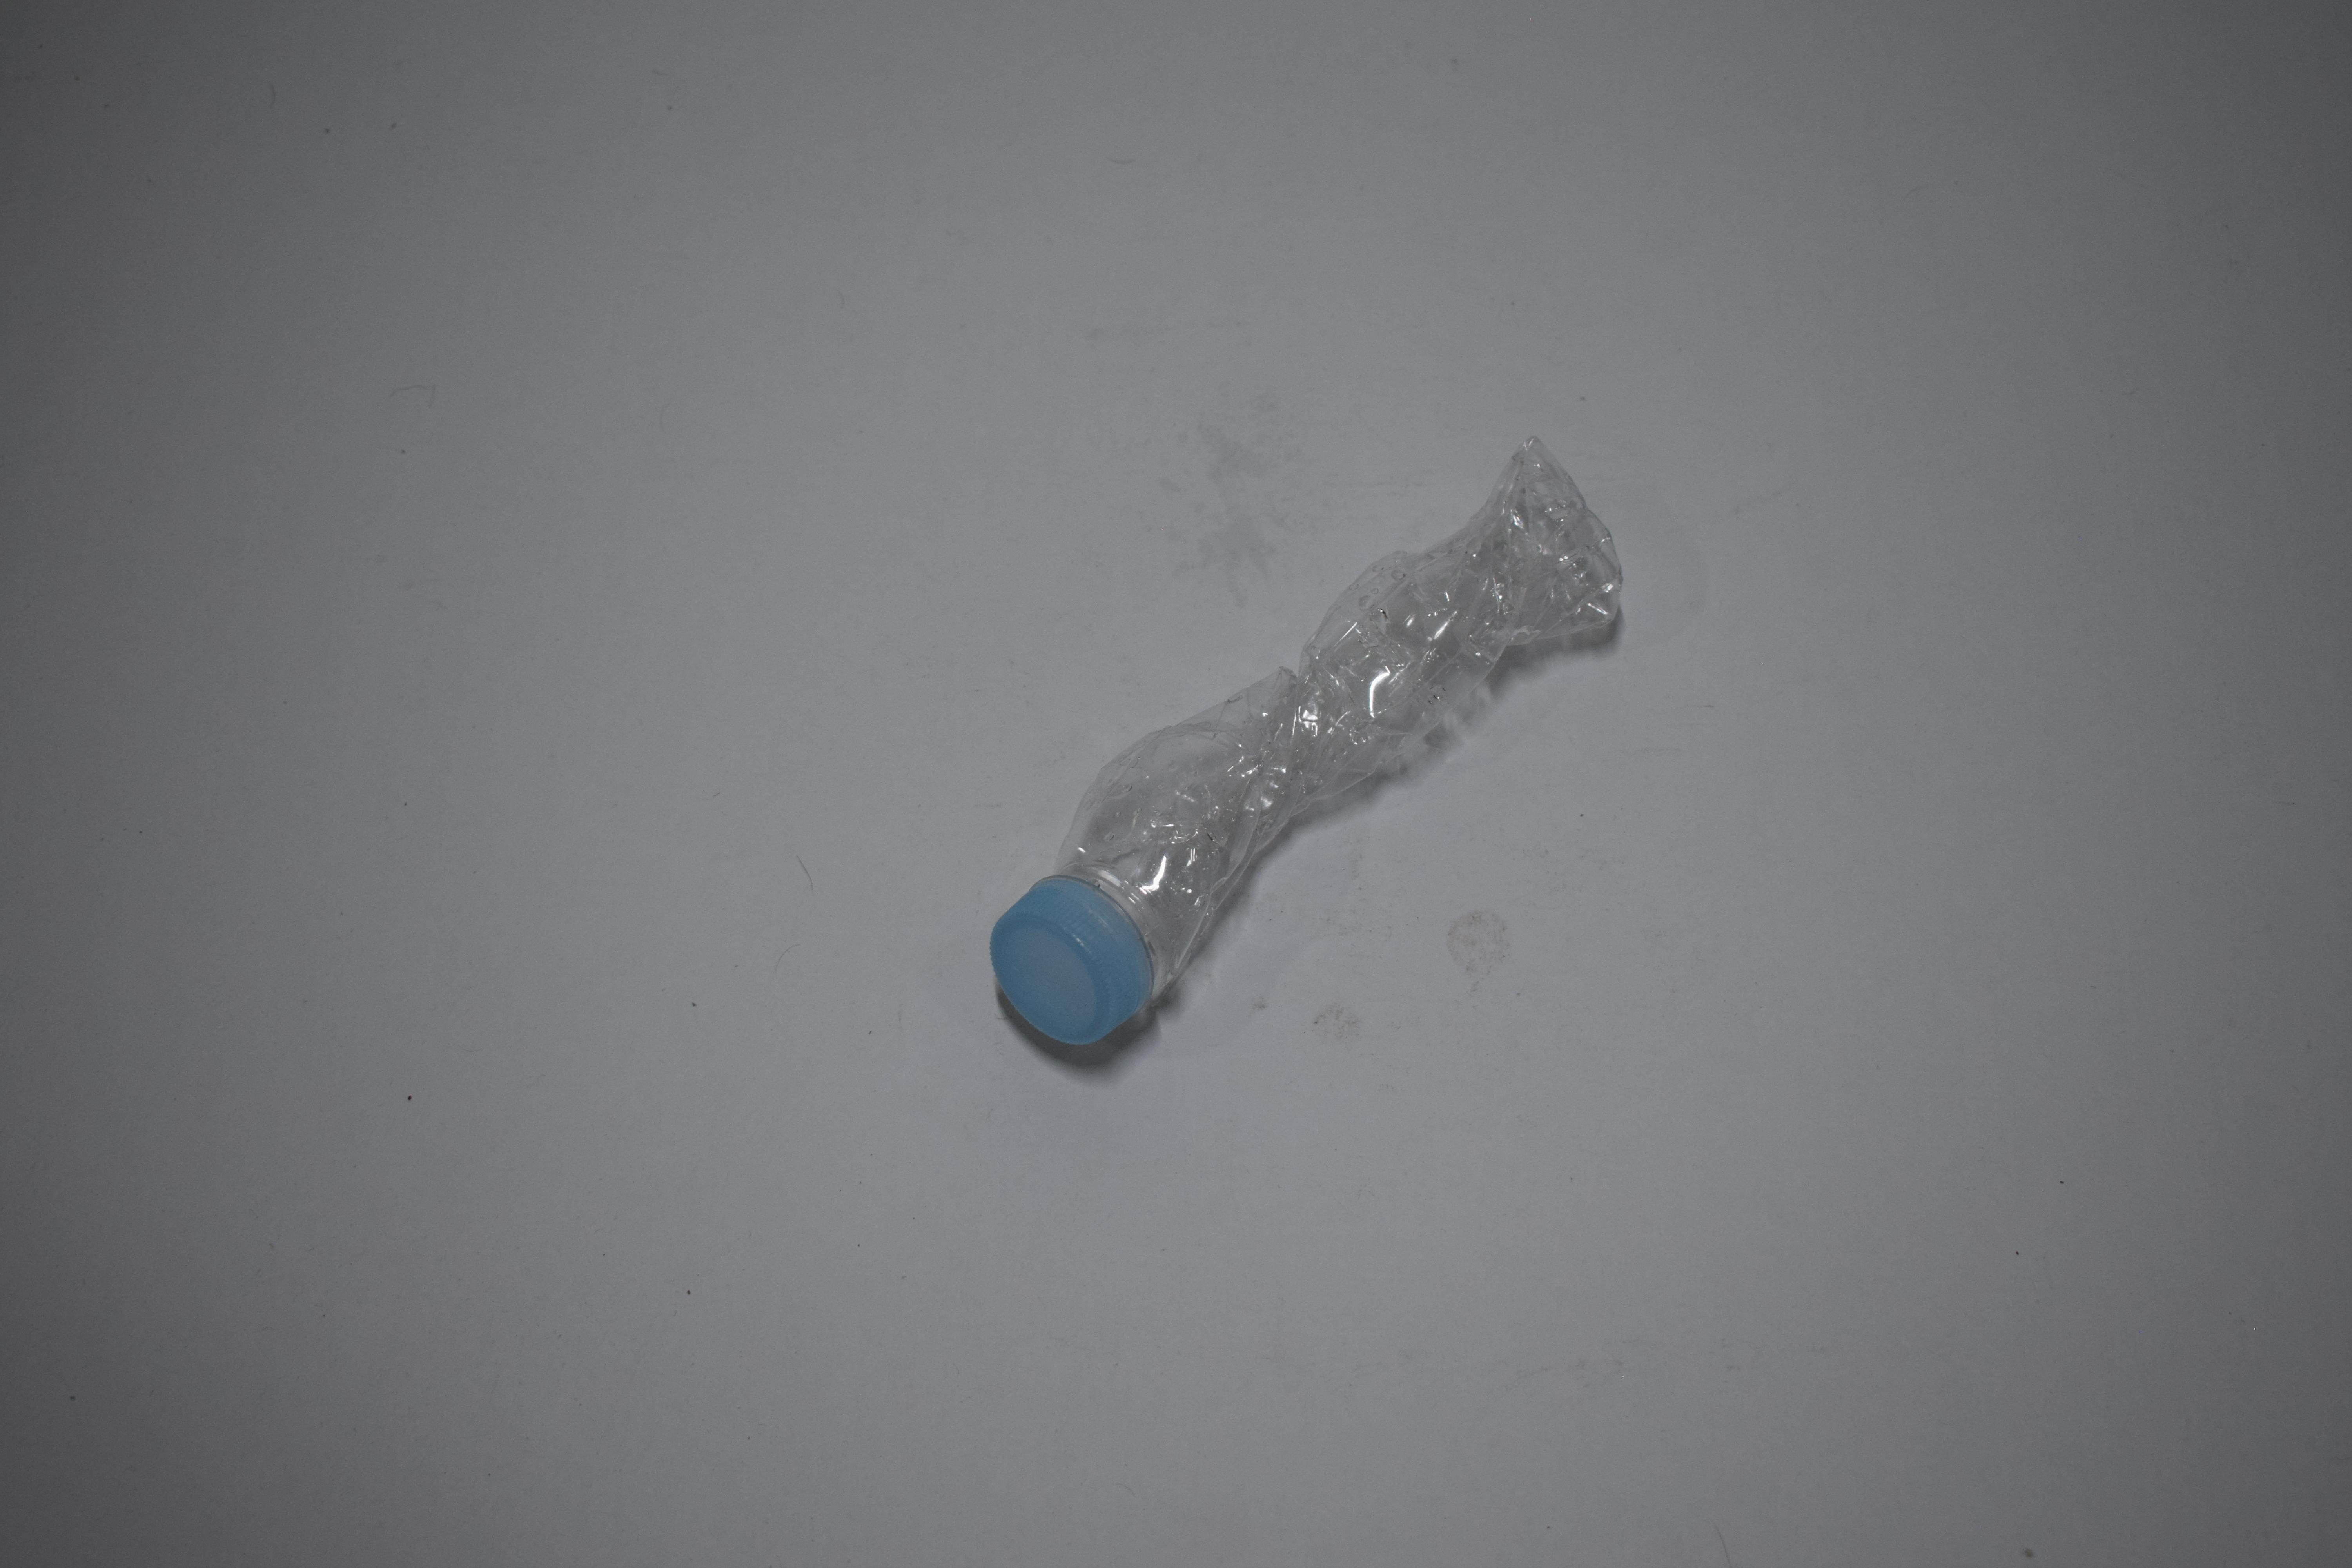bottle: (0, 432, 320, 1062)
